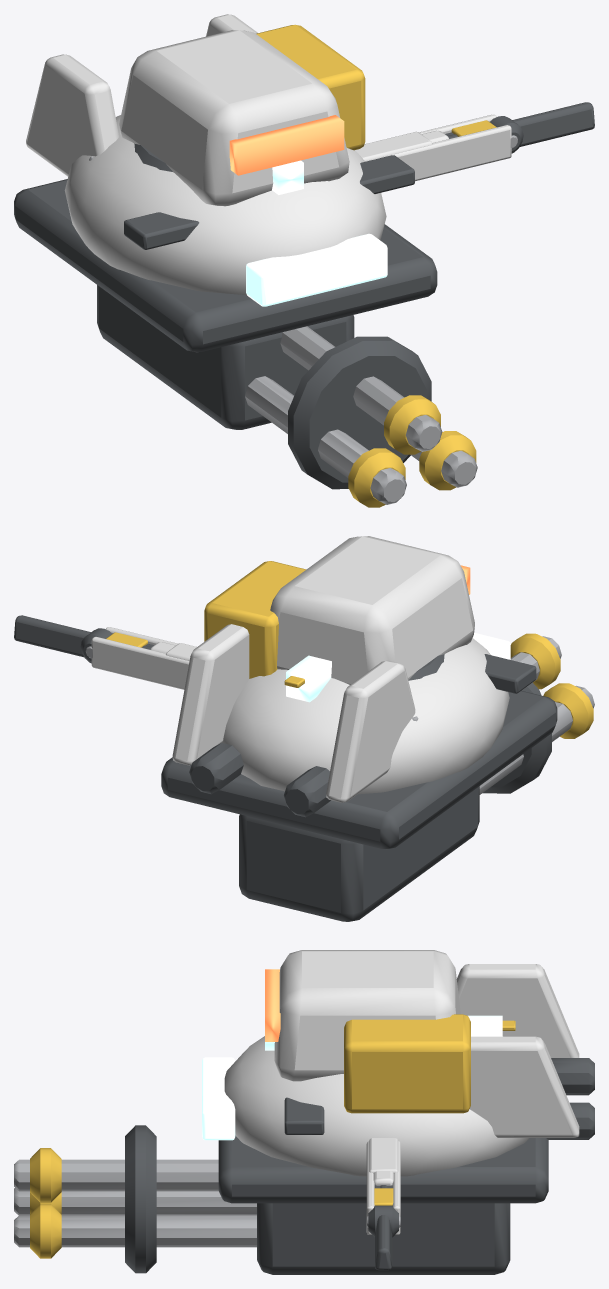
Rendered from burst.glb.
The picture shows the model from 3 angles, top to bottom: view 1: azimuth 30°, elevation 25°; view 2: azimuth 150°, elevation 25°; view 3: azimuth 270°, elevation 25°; orthographic projection. The views are drawn at different scales.
Parts seen in each view (by area): view 1: Hull, Barrel, Turret, LegUpper, LegLower; view 2: Hull, Turret, Barrel, LegUpper, LegLower; view 3: Hull, Barrel, Turret, LegUpper, LegLower.
Boxes of the visible parts, box(x1,y1,x2,y2) form: Hull: box(14, 14, 437, 352); Barrel: box(97, 285, 477, 507); Turret: box(119, 24, 365, 206); LegUpper: box(355, 114, 523, 181); LegLower: box(422, 102, 594, 146); Hull: box(161, 624, 557, 849); Turret: box(204, 536, 474, 684); Barrel: box(239, 633, 594, 921); LegUpper: box(80, 627, 196, 689); LegLower: box(14, 615, 175, 657); Hull: box(202, 964, 594, 1203); Barrel: box(14, 1125, 510, 1274); Turret: box(265, 950, 470, 1113); LegUpper: box(366, 1138, 400, 1237); LegLower: box(373, 1171, 393, 1270).
Bounding box in the file's own units: 0.795 × 0.496 × 0.88.
